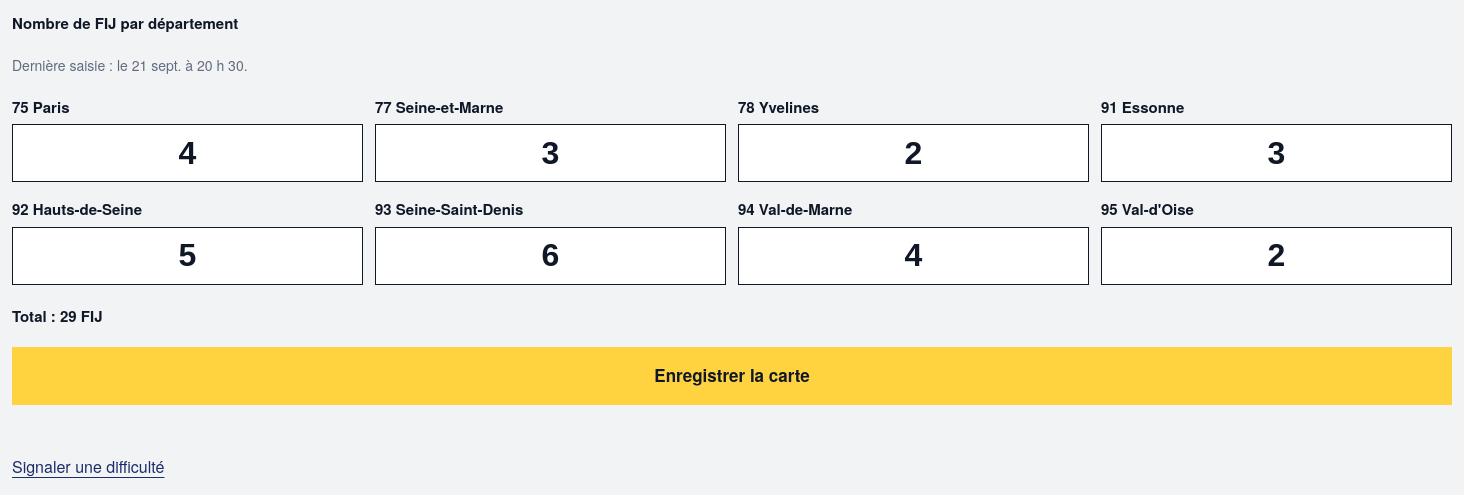
FormulaireCarteFij › le total suit la saisie, avec sa complétude quand un département manque
This screenshot has width=1464, height=495.
Clear the field labelled "77 Seine-et-Marne" at (550, 153), box x1=375 y1=124 x2=726 y2=182
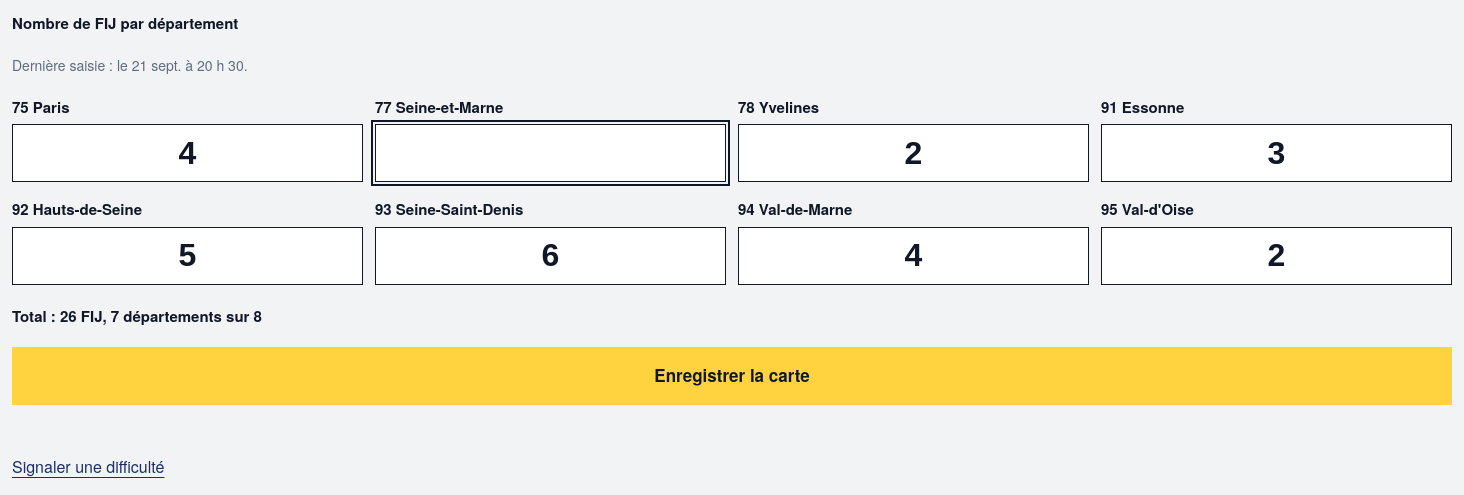
Expected: the text "Total : 26 FIJ, 7 départements sur 8" is shown, x1=12 y1=304 x2=262 y2=326
